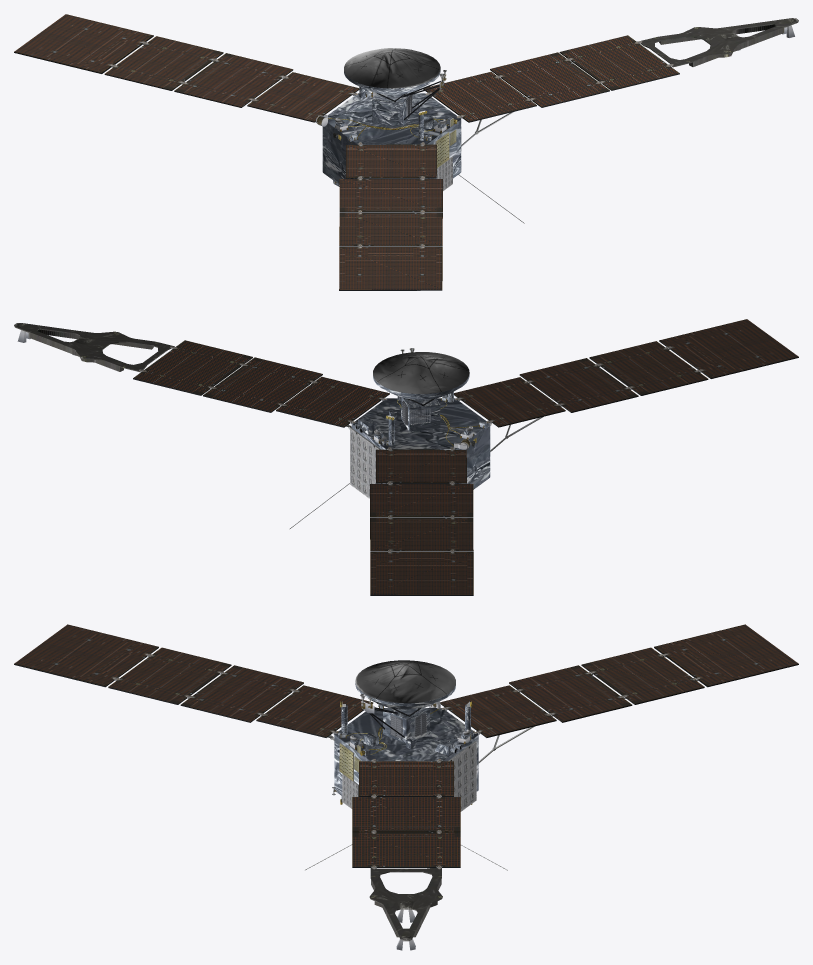
Rendered from juno_jupiter.obj.
3 renders of one model, top to bottom at view 1: azimuth 30°, elevation 25°; view 2: azimuth 150°, elevation 25°; view 3: azimuth 270°, elevation 25°, orthographic. The views are drawn at different scales.
Visible parts, largest first — view 1: obj6, obj7, obj3, obj8, obj10, obj1, obj2; view 2: obj6, obj7, obj3, obj10, obj8, obj1; view 3: obj6, obj7, obj10, obj3, obj8, obj1.
Boxes of the visible parts, left/top/right/bottom form: obj6: left=14, top=14, right=679, bottom=289; obj7: left=322, top=87, right=461, bottom=186; obj3: left=344, top=48, right=440, bottom=88; obj8: left=417, top=18, right=798, bottom=290; obj10: left=110, top=25, right=794, bottom=247; obj1: left=14, top=35, right=679, bottom=290; obj2: left=344, top=69, right=440, bottom=94; obj6: left=133, top=319, right=798, bottom=594; obj7: left=351, top=391, right=490, bottom=489; obj3: left=373, top=352, right=469, bottom=393; obj10: left=17, top=330, right=702, bottom=552; obj8: left=14, top=323, right=174, bottom=371; obj1: left=133, top=340, right=798, bottom=595; obj6: left=14, top=624, right=798, bottom=866; obj7: left=334, top=704, right=478, bottom=800; obj10: left=112, top=653, right=699, bottom=950; obj3: left=355, top=660, right=455, bottom=702; obj8: left=369, top=868, right=442, bottom=941; obj1: left=14, top=647, right=798, bottom=867.
Bounding box in the file's own units: 17.65 × 4.26 × 18.54.
